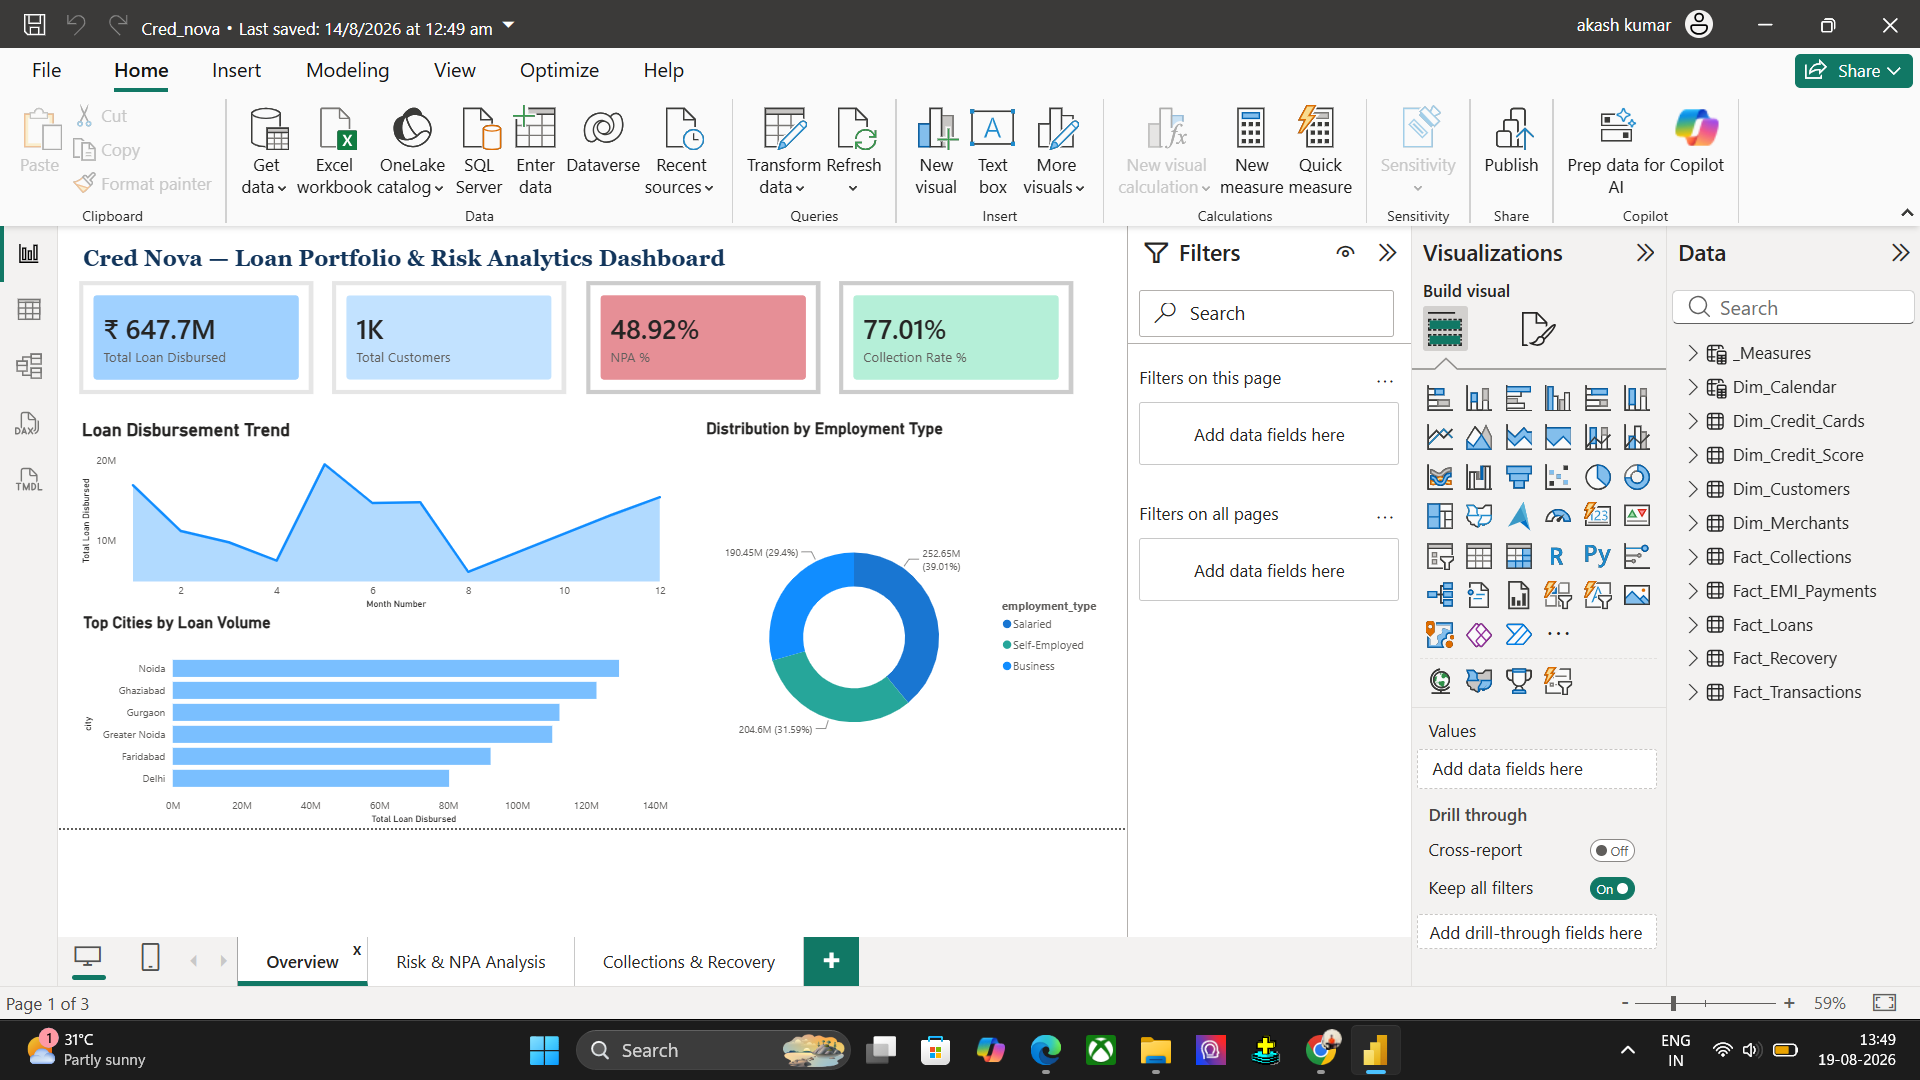

This screenshot's page, from the dashboard's own definition file:
{"tool":"powerbi","page":{"name":"Overview","canvas":[1280,720],"ordinal":0},"visuals":[{"type":"cardVisual","fields":{"Data":["_Measures.Total Loan Disbursed"]},"box":[25.4,65.9,280.6,135.2],"z":0},{"type":"cardVisual","fields":{"Data":["_Measures.Total Customers"]},"box":[328.5,65.9,280.6,135.2],"z":1000},{"type":"cardVisual","fields":{"Data":["_Measures.NPA %"]},"box":[631.7,65.9,280.6,135.2],"z":2000},{"type":"cardVisual","fields":{"Data":["_Measures.Collection Rate %"]},"box":[934.9,65.9,280.6,135.2],"z":3000},{"type":"lineChart","title":"Loan Disbursement Trend","fields":{"Category":["Dim_Calendar.Month Number"],"Y":["_Measures.Total Loan Disbursed"]},"box":[23.7,231.6,711.7,231.6],"z":4000},{"type":"clusteredBarChart","title":"Top Cities by Loan Volume","fields":{"Category":["Dim_Customers.city"],"Y":["_Measures.Total Loan Disbursed"]},"box":[25.4,463.2,710,257],"z":5000},{"type":"donutChart","title":"Distribution by Employment Type","fields":{"Category":["Dim_Customers.employment_type"],"Y":["_Measures.Total Loan Disbursed"]},"box":[770.9,231.6,491.9,488.6],"z":6000},{"type":"textbox","box":[25.4,0,1032.9,59.2],"z":7000}]}

Visuals, with their boxes on the page's 1280x720 design canvas (x1, y1, x2, y2). These are canvas units, not pixel positions in the 1920x1080 screenshot, which may show the page scaled, cropped or inside an application window:
cardVisual - _Measures.Total Loan Disbursed: 25, 66, 306, 201
cardVisual - _Measures.Total Customers: 328, 66, 609, 201
cardVisual - _Measures.NPA %: 632, 66, 912, 201
cardVisual - _Measures.Collection Rate %: 935, 66, 1216, 201
"Loan Disbursement Trend" lineChart: 24, 232, 735, 463
"Top Cities by Loan Volume" clusteredBarChart: 25, 463, 735, 720
"Distribution by Employment Type" donutChart: 771, 232, 1263, 720
textbox: 25, 0, 1058, 59
